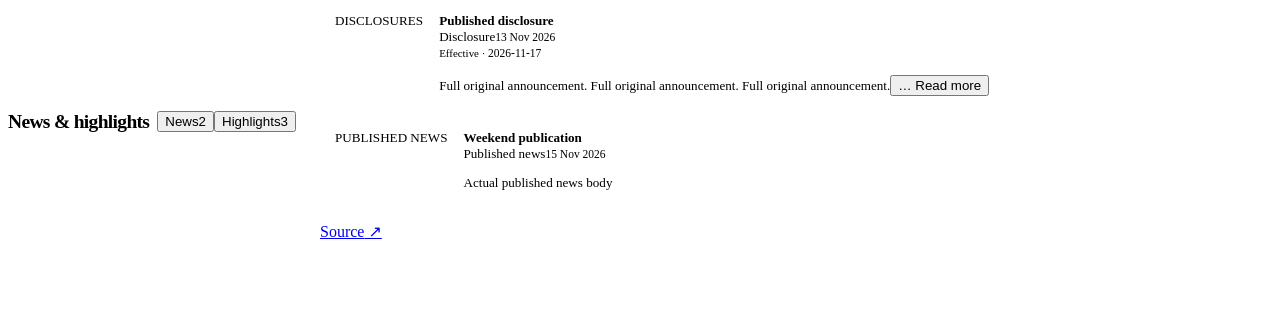
Scenario: keeps active item, full source disclosure, footer and pause state separate across keyboard tabs and refresh
Later steps or results of the test are not shown.
Click the button "… Read more". click: (940, 85)
box: x1=890 y1=74 x2=989 y2=96
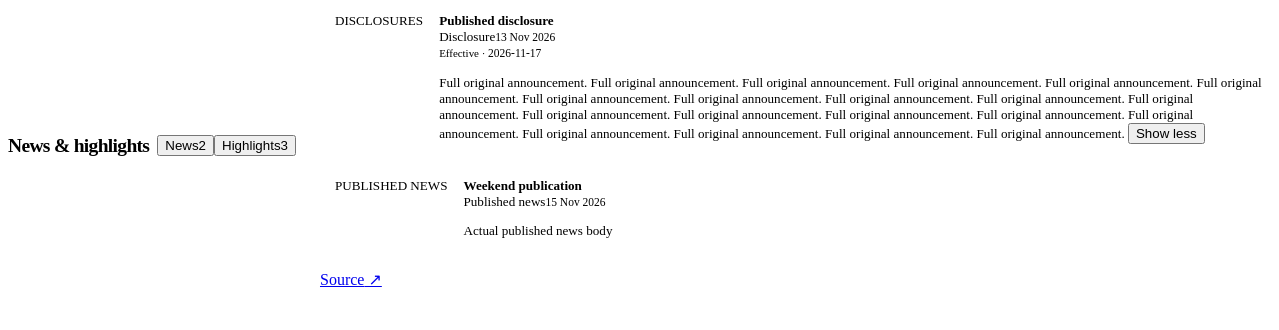
Expected: the button "Show less" is expanded, x1=1128 y1=122 x2=1205 y2=144
Click the text "Weekend publication". click: (523, 185)
box: x1=464 y1=178 x2=582 y2=193
Press ArrowRight in the tab "News2", box x1=157 y1=135 x2=214 y2=156
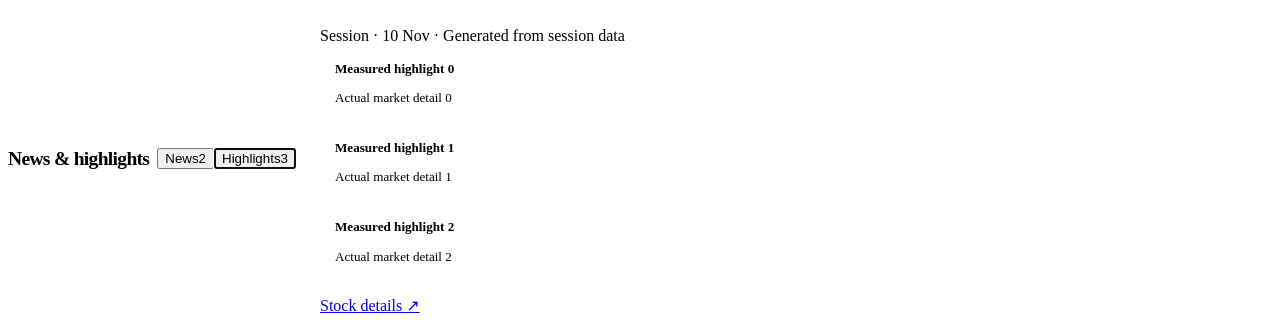
Expected: the tab "Highlights3" is selected, x1=214 y1=148 x2=296 y2=169
Click the text "Measured highlight 1". click: (395, 148)
box: x1=335 y1=140 x2=454 y2=155
Press Home in the tab "Highlights3", box x1=214 y1=148 x2=296 y2=169
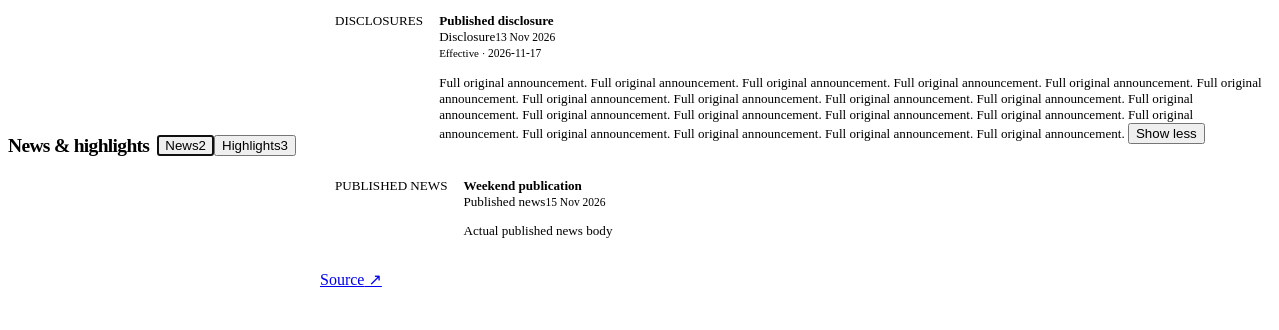
Expected: the button "Show less" is expanded, x1=1128 y1=122 x2=1205 y2=144
